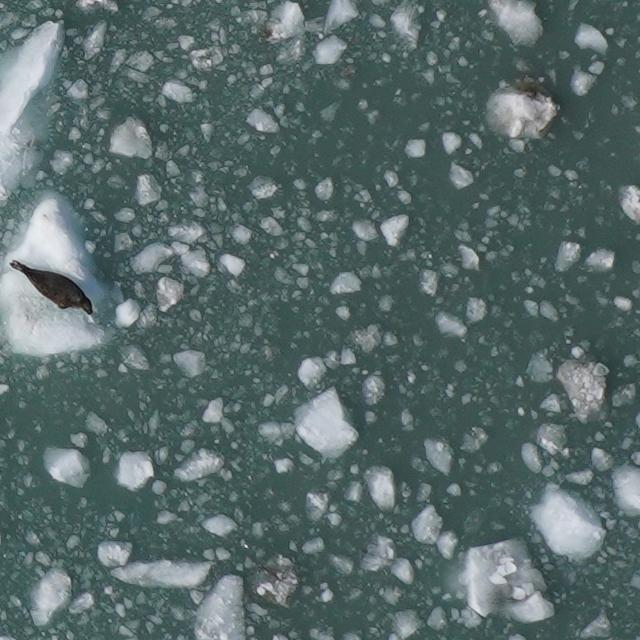seal: (6, 256, 98, 319)
